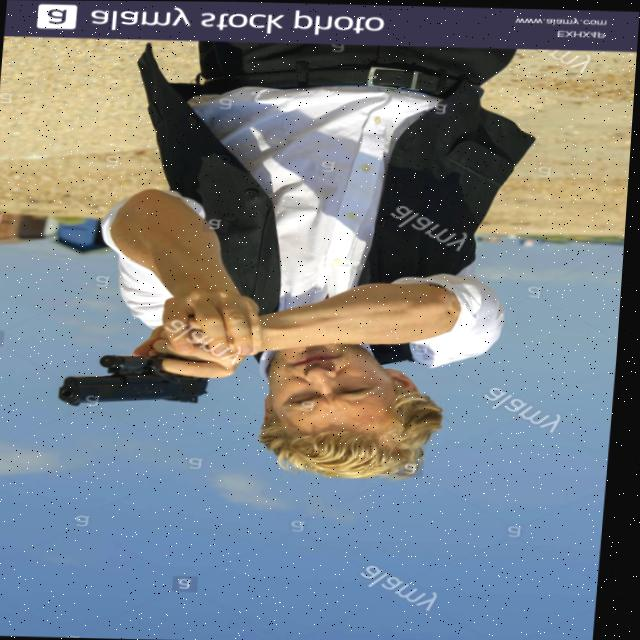pistol: (61, 348, 214, 409)
